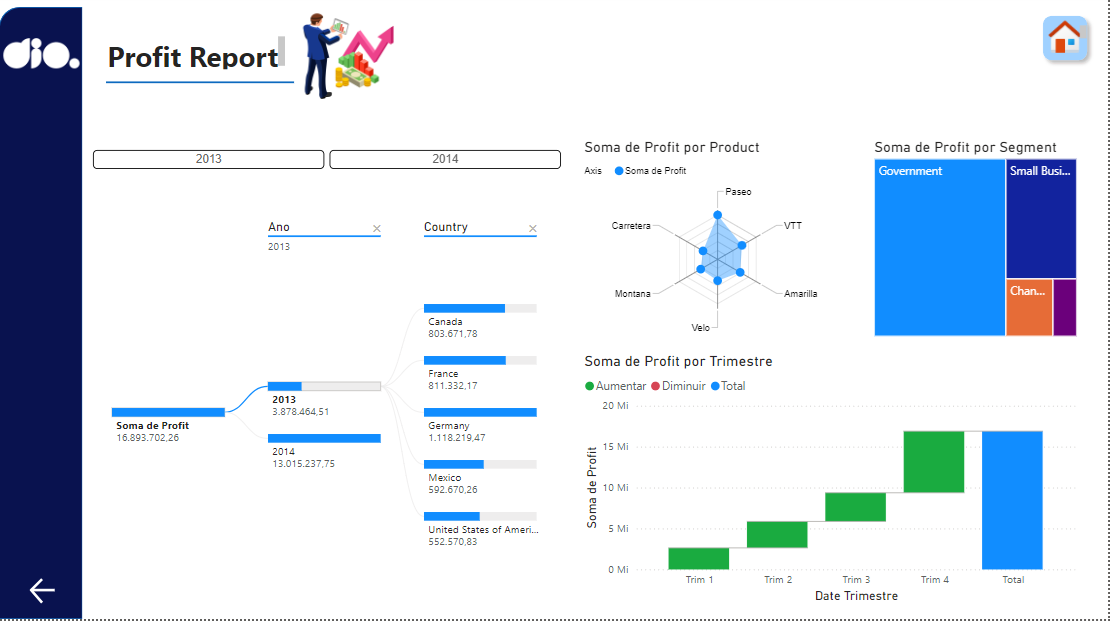

What the dashboard file says about the page in this screenshot:
{"tool":"powerbi","page":{"name":"Profit","canvas":[1280,720],"ordinal":1},"visuals":[{"type":"group","id":"g1","title":"Layout","box":[0,-0.5,511.4,720],"z":0},{"type":"shape","box":[0,13.4,96.4,706.2],"z":0,"group":"g1"},{"type":"actionButton","title":"Home Page","box":[1195.4,15,69.2,69.2],"z":0,"group":"g4"},{"type":"shape","box":[123.8,84.5,217.2,33],"z":0,"group":"g3"},{"type":"textbox","box":[1199.6,29.8,60,42.6],"z":1000,"group":"g4"},{"type":"image","title":"logo_dio","box":[0,35.7,98.2,63.2],"z":1000,"group":"g1"},{"type":"textbox","box":[120.4,43.1,215.2,48.5],"z":1000,"group":"g3"},{"type":"image","box":[322.6,-0.5,188.8,141.2],"z":2000,"group":"g1"},{"type":"shape","box":[100.3,233.1,556,474],"z":4000},{"type":"decompositionTreeVisual","fields":{"Analyze":["Sum(financials.Profit)"],"ExplainBy":["financials.Date.Variation.Hierarquia de datas.Ano","financials.Country"]},"box":[99.8,242.2,536.3,456.5],"z":5000},{"type":"waterfallChart","fields":{"Category":["financials.Date.Variation.Hierarquia de datas.Trimestre"],"Y":["Sum(financials.Profit)"]},"box":[670.9,412.5,577.4,294.2],"z":6000},{"type":"ChicletSlicer1448559807354","fields":{"Category":["financials.Date.Variation.Hierarquia de datas.Ano"]},"box":[100.3,170.6,556,48.2],"z":7000},{"type":"RadarChart1446119667547","fields":{"Category":["financials.Product"],"Y":["Sum(financials.Profit)"]},"box":[670.9,165,317.6,233.7],"z":8000},{"type":"treemap","fields":{"Values":["Sum(financials.Profit)"],"Group":["financials.Segment"]},"box":[1005,165,243.4,233.7],"z":9000},{"type":"actionButton","box":[31.3,668,39.1,39.1],"z":10000},{"type":"group","id":"g2","title":"Botão home","box":[1195.4,15,69.2,69.2],"z":11000},{"type":"group","id":"g3","title":"Title report","box":[120.4,43.1,221.5,74.3],"z":12000},{"type":"group","id":"g4","title":"Grupo 1","box":[1195.4,15,69.2,69.2],"z":14001,"group":"g2"}]}

Visuals, with their boxes in screenshot pixels (x1, y1, x2, y2), scaled from the page's 1280x720 canvas onto the 1110x621 screenshot:
"Layout" group: x1=0, y1=0, x2=443, y2=620
shape: x1=0, y1=12, x2=84, y2=620
"Home Page" actionButton: x1=1037, y1=13, x2=1097, y2=73
shape: x1=107, y1=73, x2=296, y2=101
textbox: x1=1040, y1=26, x2=1092, y2=62
"logo_dio" image: x1=0, y1=31, x2=85, y2=85
textbox: x1=104, y1=37, x2=291, y2=79
image: x1=280, y1=0, x2=443, y2=121
shape: x1=87, y1=201, x2=569, y2=610
decompositionTreeVisual - Sum(financials.Profit) x financials.Date.Variation.Hierarquia de datas.Ano: x1=87, y1=209, x2=552, y2=603
waterfallChart - financials.Date.Variation.Hierarquia de datas.Trimestre x Sum(financials.Profit): x1=582, y1=356, x2=1083, y2=610
ChicletSlicer1448559807354 - financials.Date.Variation.Hierarquia de datas.Ano: x1=87, y1=147, x2=569, y2=189
RadarChart1446119667547 - financials.Product x Sum(financials.Profit): x1=582, y1=142, x2=857, y2=344
treemap - Sum(financials.Profit) x financials.Segment: x1=872, y1=142, x2=1083, y2=344
actionButton: x1=27, y1=576, x2=61, y2=610
"Botão home" group: x1=1037, y1=13, x2=1097, y2=73
"Title report" group: x1=104, y1=37, x2=296, y2=101
"Grupo 1" group: x1=1037, y1=13, x2=1097, y2=73
